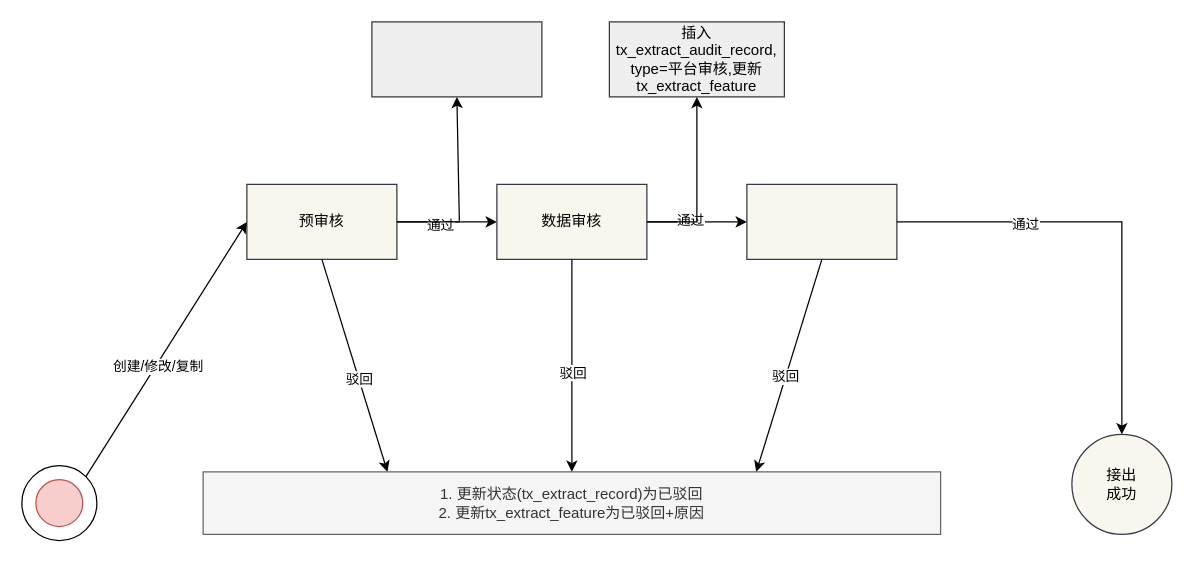
This 1194x563 diagram has some shape labels left out. Here are the shapes that lost their labels. From the top down, the centre of each, then its label:
At (456,59): "插入tx_extract_audit_record, type=数据审核,更新tx_extract_feature".
At (821,221): "平台审核".
